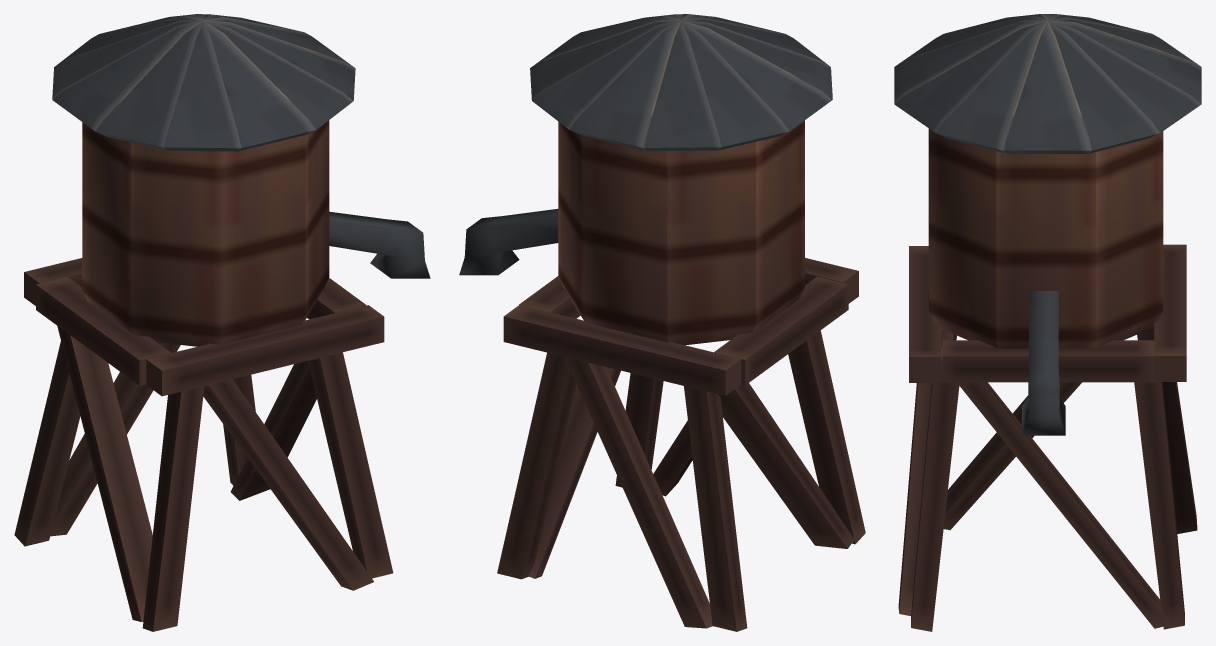
The model's file is water_tower_v007.fbx.
3 renders of one model, left to right at view 1: azimuth 30°, elevation 25°; view 2: azimuth 150°, elevation 25°; view 3: azimuth 270°, elevation 25°, orthographic. The views are drawn at different scales.
Parts seen in each view (by area): view 1: water_tower_v007; view 2: water_tower_v007; view 3: water_tower_v007.
Boxes of the visible parts, <box> form: water_tower_v007: <box>14,14,430,631</box>; water_tower_v007: <box>459,14,865,631</box>; water_tower_v007: <box>894,14,1201,631</box>.
Size of the model in its own units: 598 by 896 by 452.
